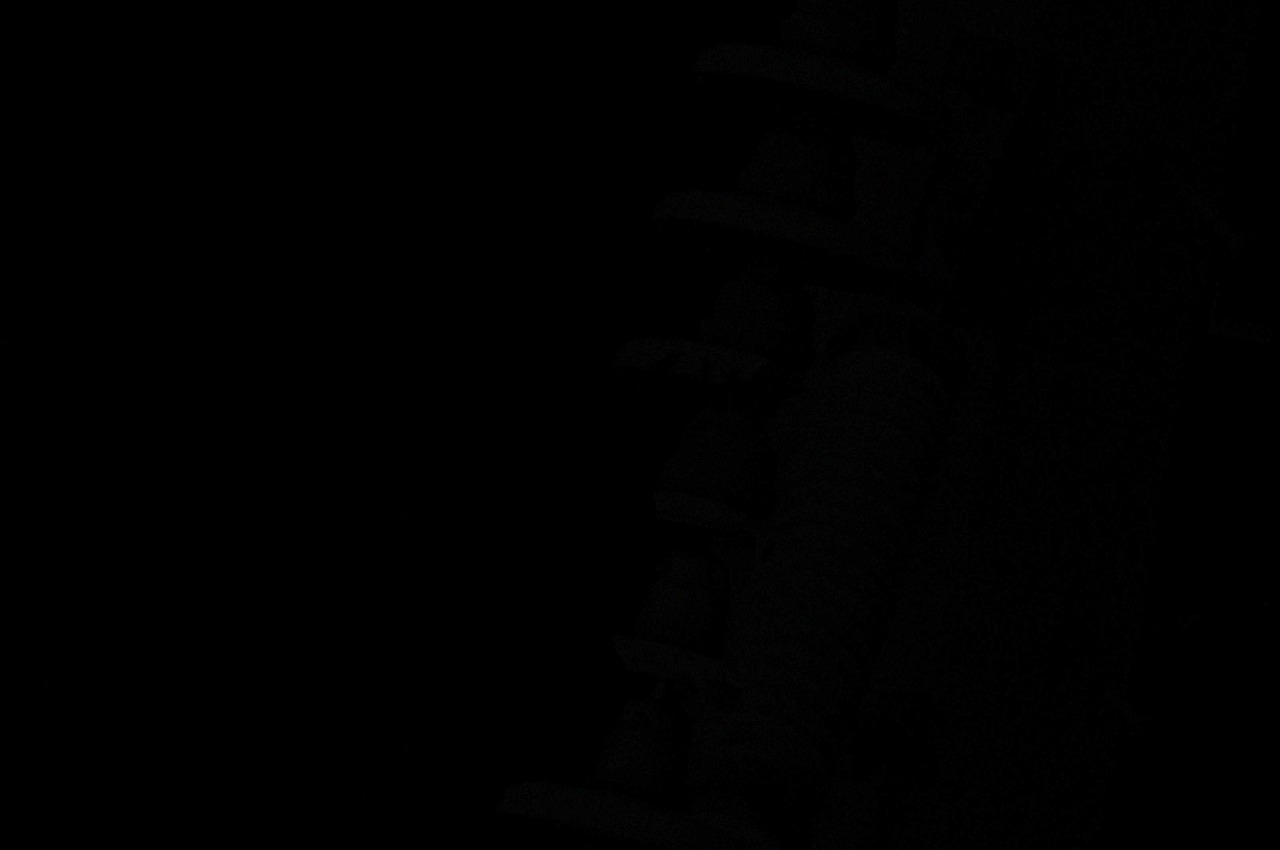Broken: (606, 259, 816, 419), (598, 546, 752, 715), (641, 403, 791, 561)
No issues: (641, 113, 920, 301), (686, 0, 959, 157), (496, 696, 759, 850)
String: (486, 0, 970, 850)
